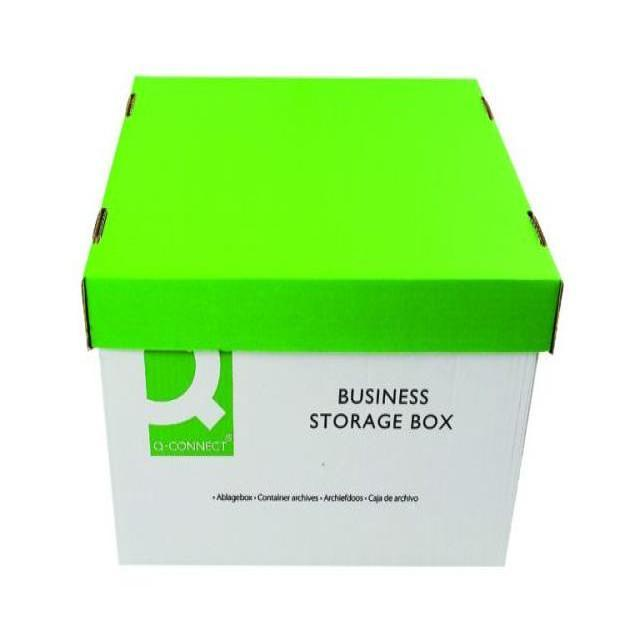Cardboard: (81, 71, 565, 559)
